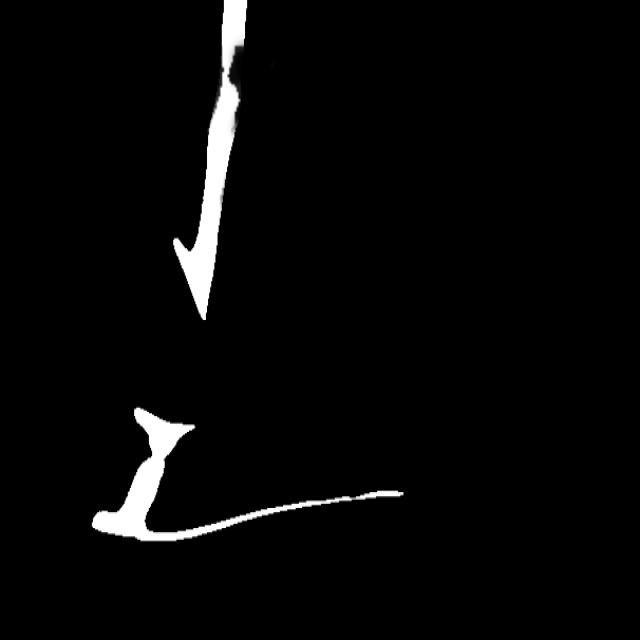sl: (214, 36, 248, 114)
